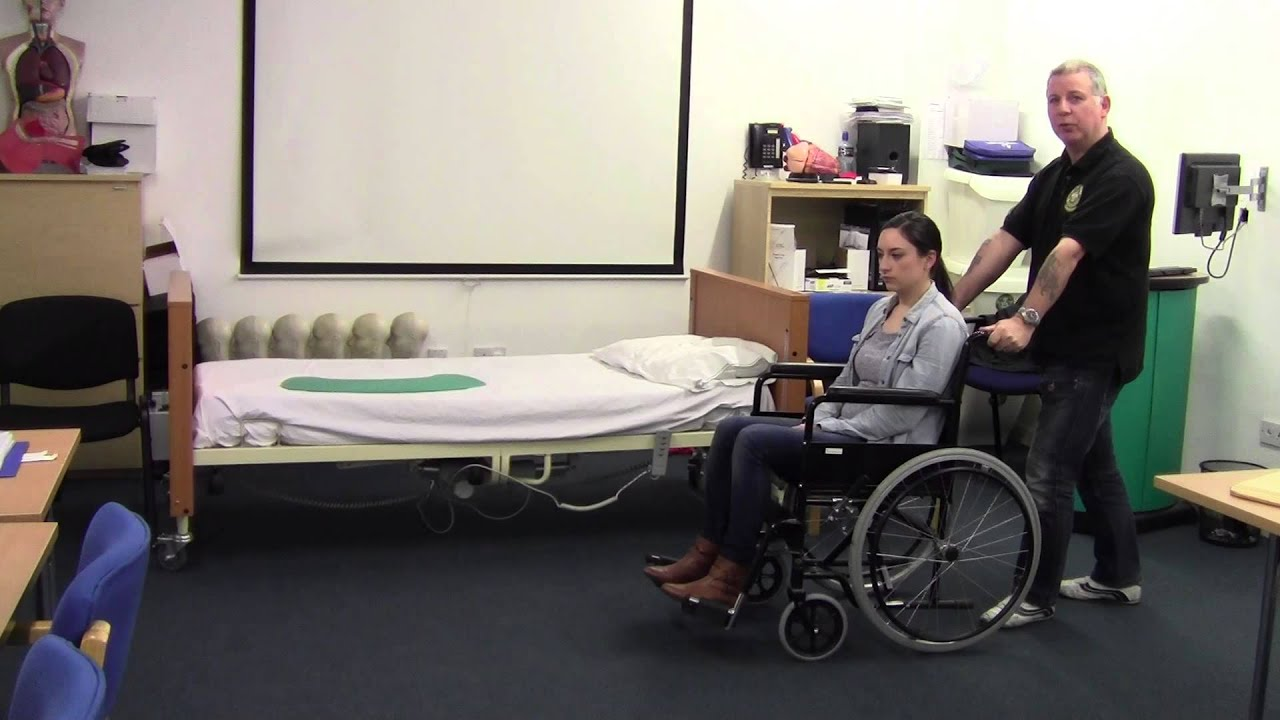wheelchair: (642, 212, 1043, 663)
